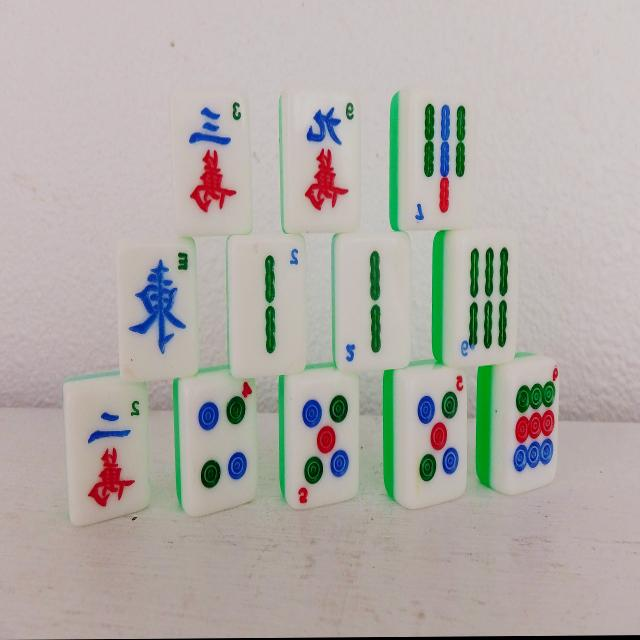east: (120, 238, 194, 381)
m2: (80, 389, 143, 512)
m3: (172, 92, 250, 235)
m9: (291, 97, 358, 228)
s2: (229, 240, 306, 375), (339, 239, 405, 365)
s6: (453, 236, 513, 357)
s7: (402, 104, 470, 229)
t4: (186, 380, 254, 500)
t5: (392, 366, 466, 509), (278, 372, 356, 505), (403, 374, 465, 492)
t9: (486, 361, 556, 497)
